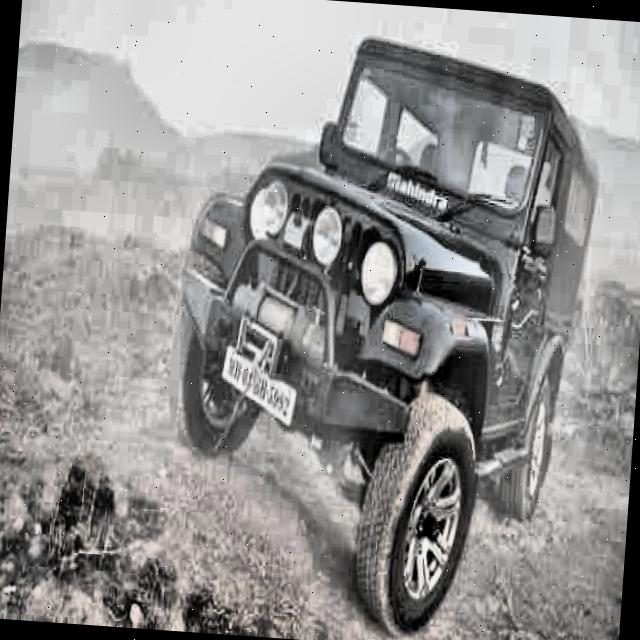license_plate: (217, 346, 300, 424)
